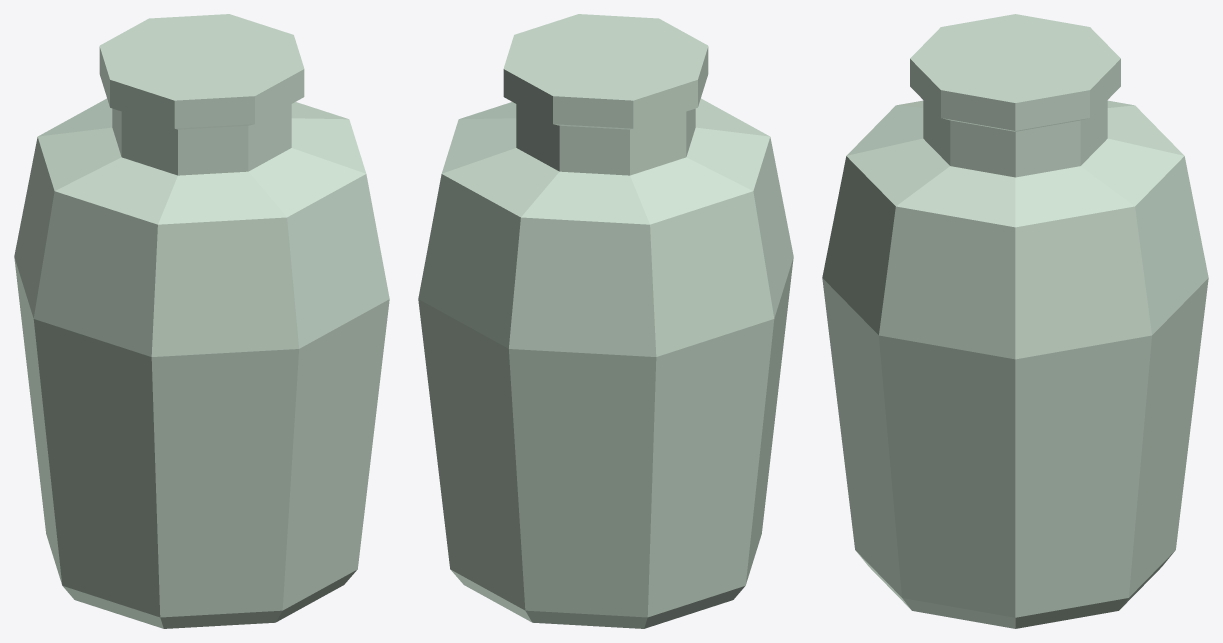
File: Lightning.fbx
3 views of the same model, side by side, from view 1: azimuth 30°, elevation 25°; view 2: azimuth 150°, elevation 25°; view 3: azimuth 270°, elevation 25° (orthographic).
Parts seen in each view (by area): view 1: Cylinder; view 2: Cylinder; view 3: Cylinder.
Boxes of the visible parts, x1=… form: Cylinder: x1=14, y1=14, x2=389, y2=628; Cylinder: x1=418, y1=14, x2=793, y2=628; Cylinder: x1=822, y1=14, x2=1208, y2=628.
Size of the model in its own units: 731 by 1062 by 731.
